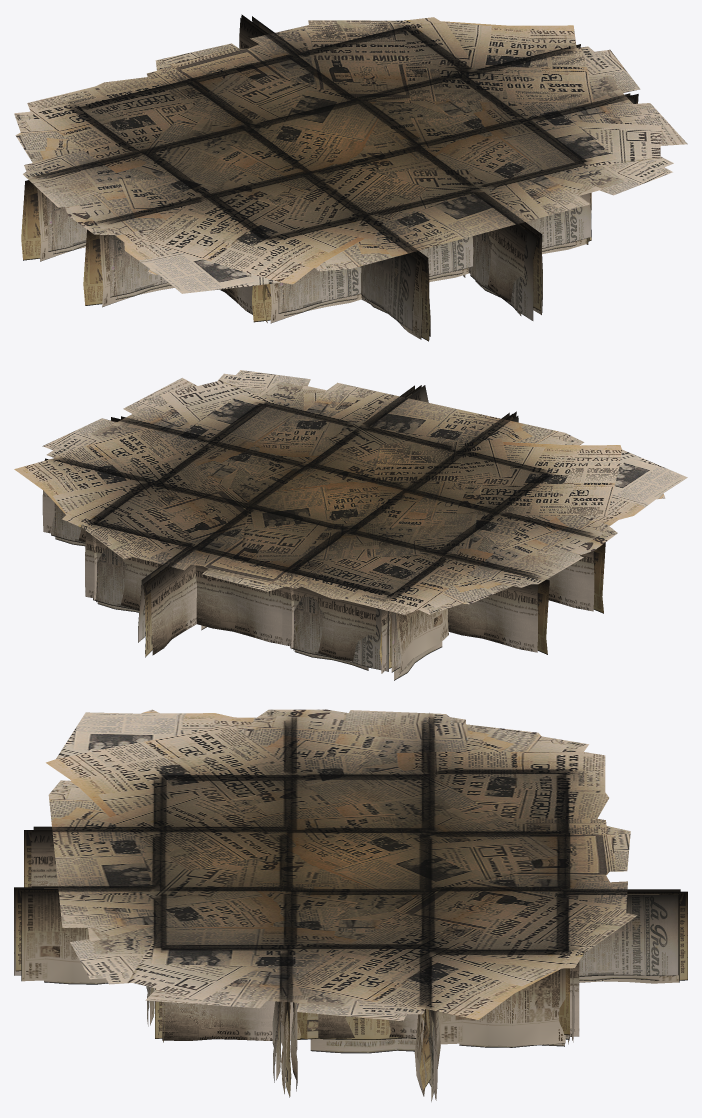
Rendered from techo.FBX.
3 renders of one model, top to bottom at view 1: azimuth 30°, elevation 25°; view 2: azimuth 150°, elevation 25°; view 3: azimuth 270°, elevation 25°, orthographic. The views are drawn at different scales.
Visible parts, largest first — view 1: Techo; view 2: Techo; view 3: Techo.
Part boxes in pixels (bbox=[...]): Techo: bbox=[14, 14, 687, 341]; Techo: bbox=[14, 370, 687, 680]; Techo: bbox=[14, 709, 687, 1101].
Bounding box in the file's own units: 197 × 30.94 × 180.
